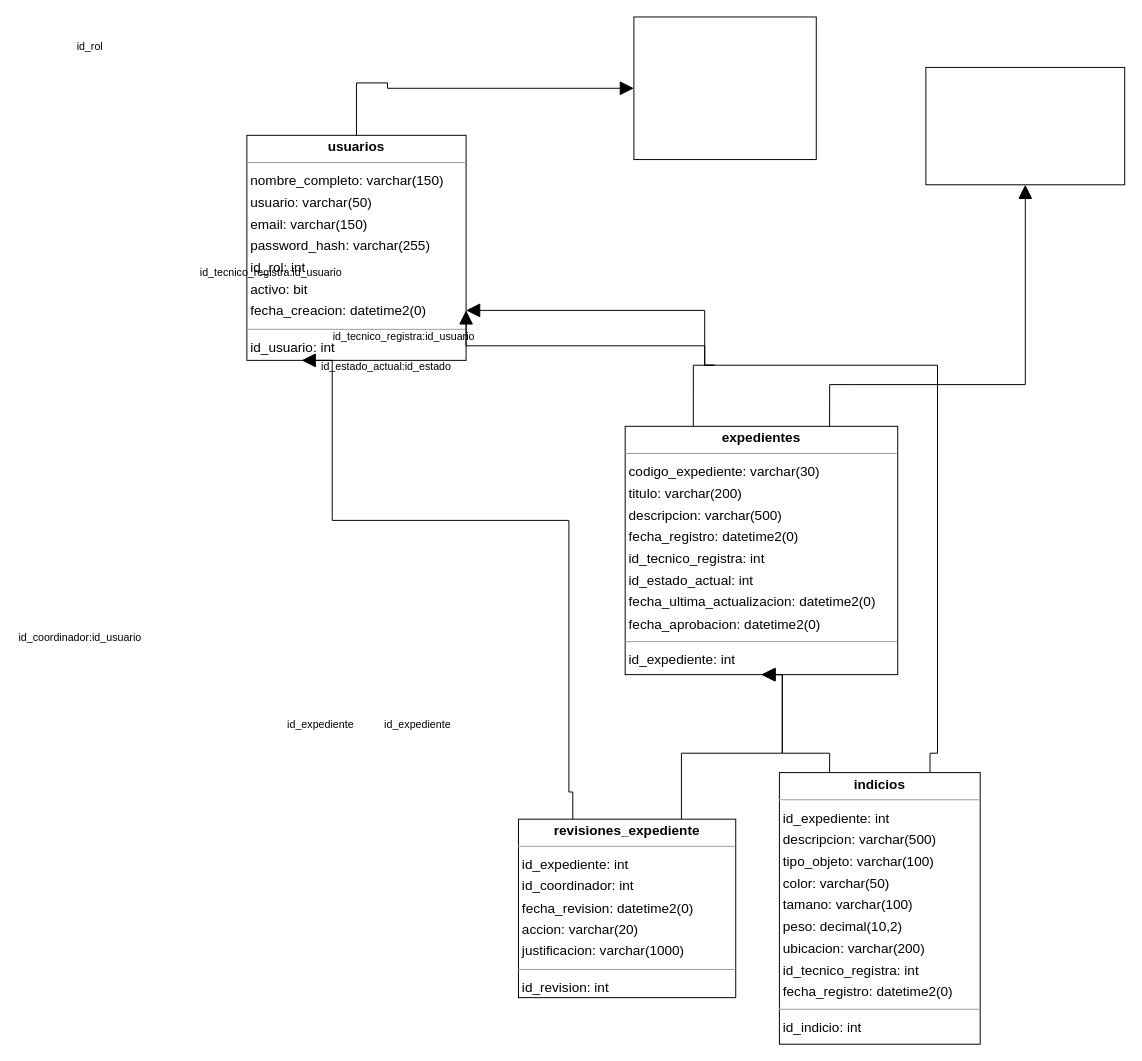
This 1142x1061 diagram has some shape labels left out. The centre of each missing label's shape, as x and y in pixels:
"estados_expediente codigo: varchar(30) descripcion: varchar(150) id_estado: int" belongs at pixel 1025 125.
"roles nombre: varchar(50) descripcion: varchar(200) es_activo: bit id_rol: int" belongs at pixel 724 88.
